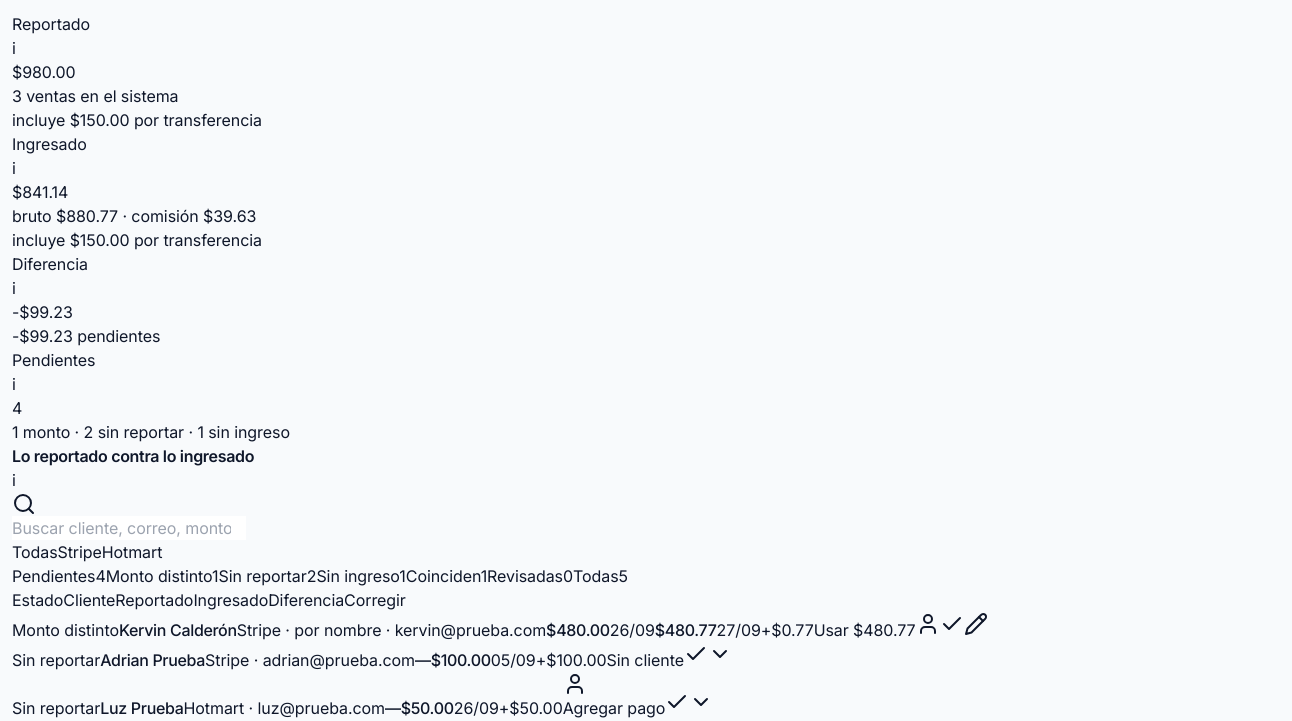
it: Diferencias · KPIs y filtros › «Todas» dice cuánto de lo reportado y lo ingresado fue por transferencia; una pasarela, no
Check: the heading "Lo reportado contra lo ingresado" is shown, box x1=12 y1=446 x2=254 y2=466
Check: the text "incluye $150.00 por transferencia" is shown 2 times, box x1=12 y1=110 x2=262 y2=130; x1=12 y1=230 x2=262 y2=250
Click the tab "Stripe" at (80, 552), box x1=58 y1=540 x2=102 y2=564
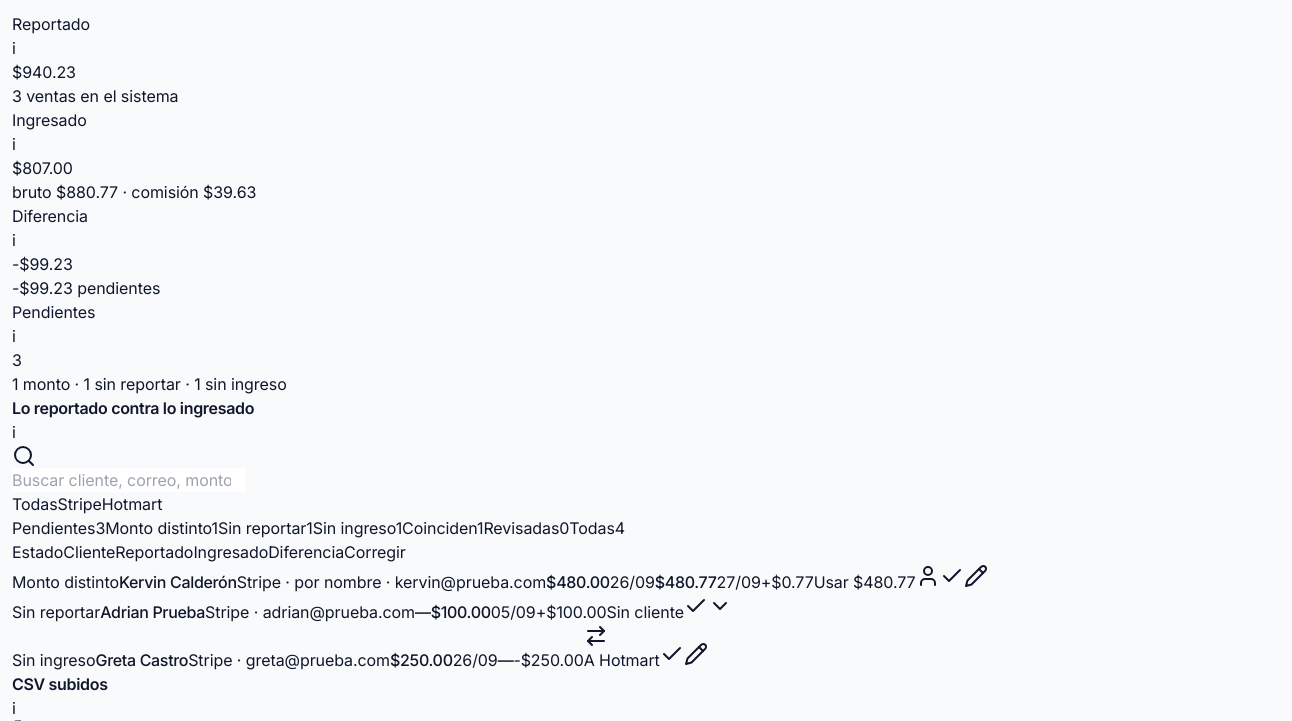
Check: the text "incluye $150.00 por transferencia" is gone
